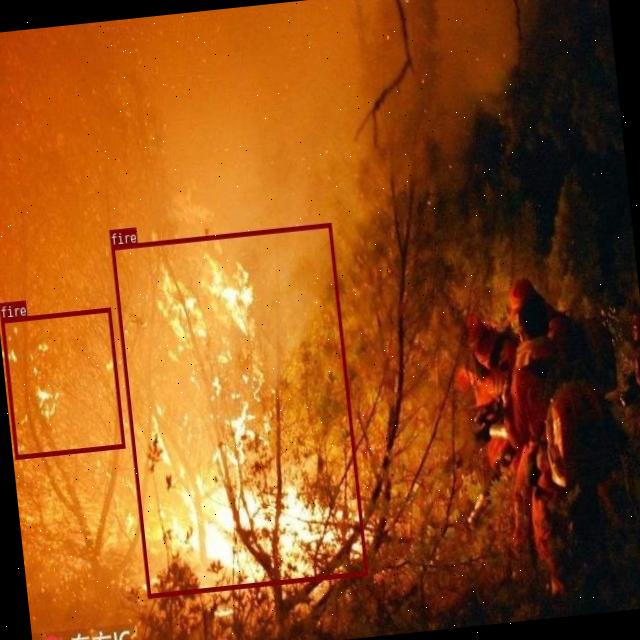fire: (110, 222, 368, 596), (0, 307, 124, 458)
